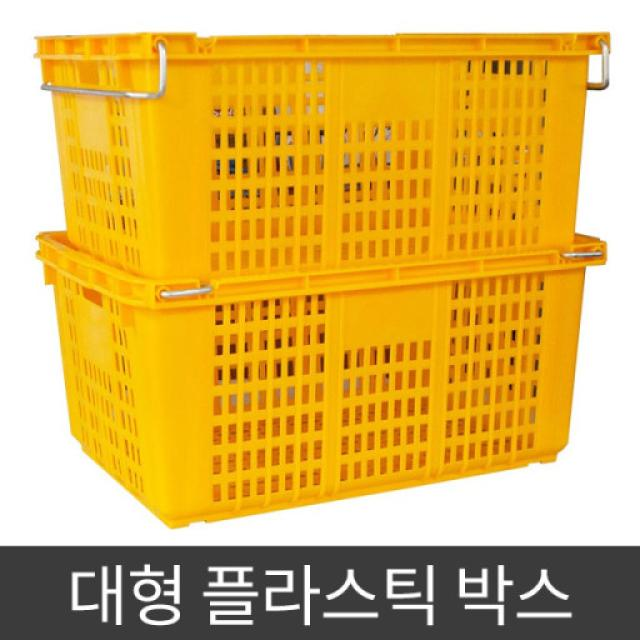basket: (36, 33, 609, 527), (36, 33, 611, 278)
